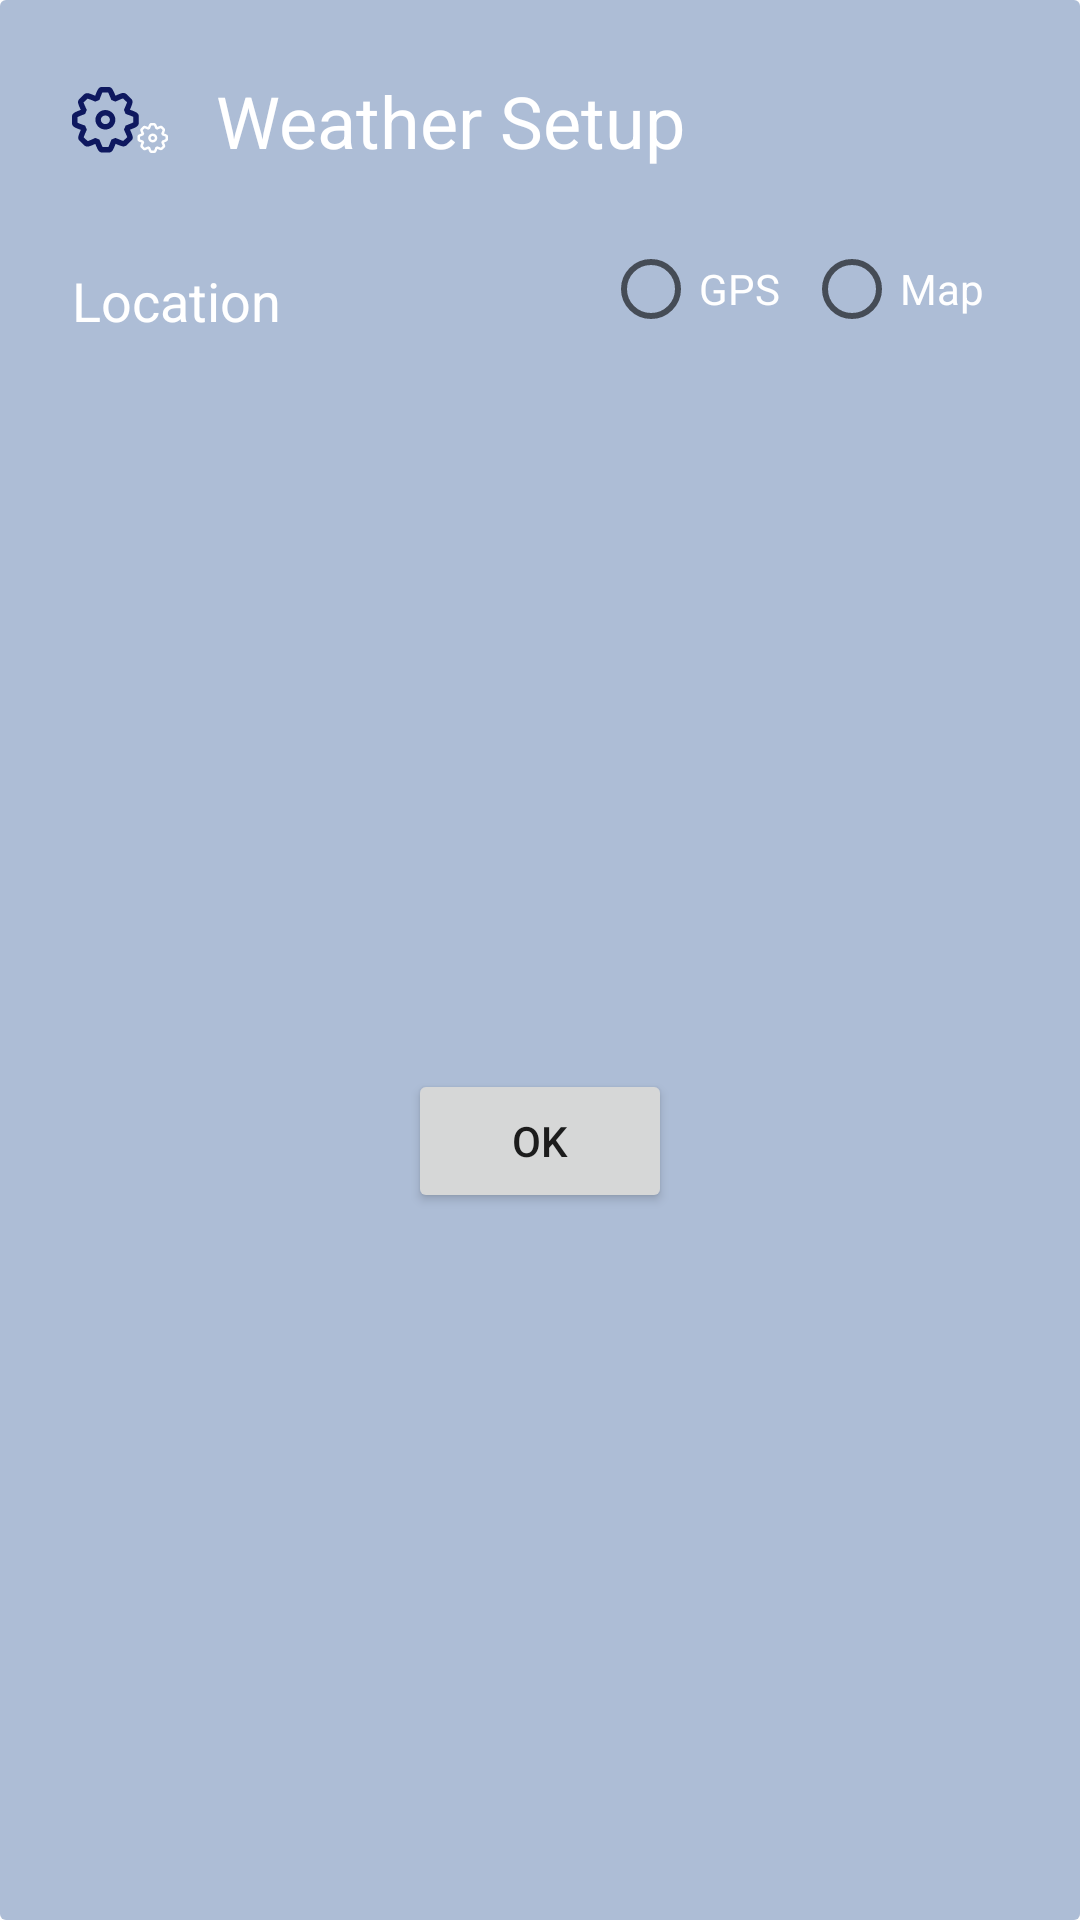

Where icons sit on this 1080 × 1920 app screen, as [x1=x1, y1=y1, x2=x2, y2=y2]:
setting tool: [x1=72, y1=87, x2=168, y2=153]
